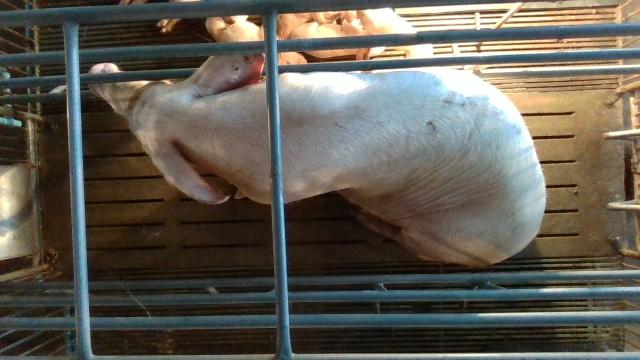piglet: (206, 16, 307, 64), (362, 9, 434, 58), (289, 22, 374, 60)
sow-sit: (89, 52, 547, 267)
